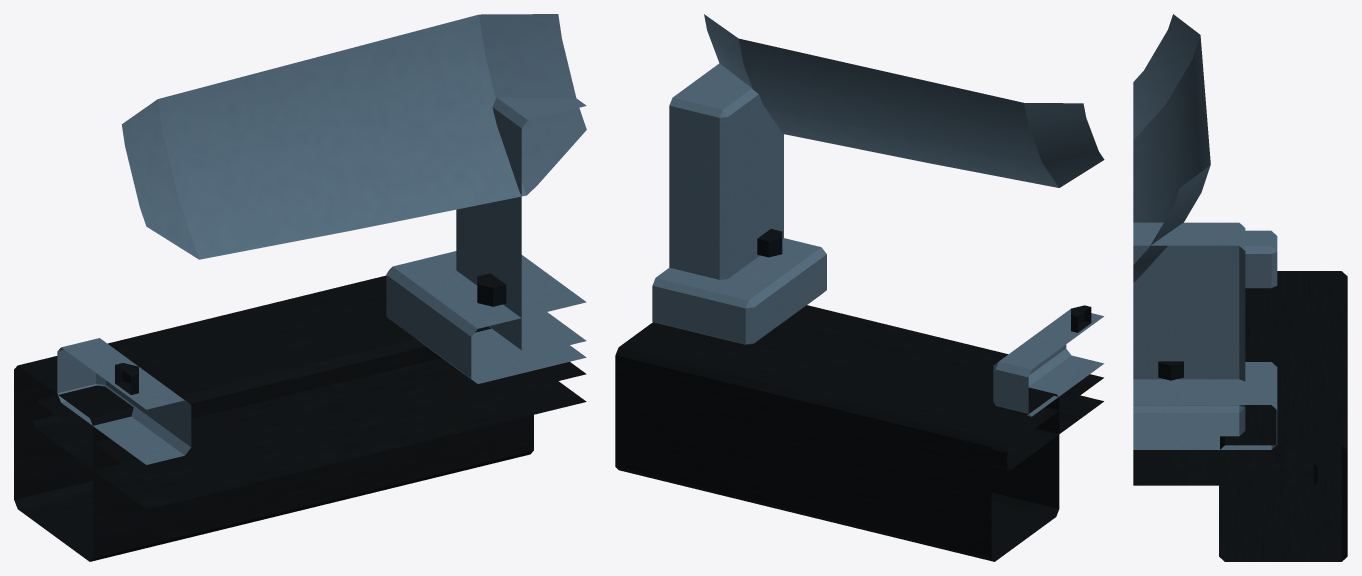
The model's file is cell_5.obj.
The picture shows the model from 3 angles, left to right: view 1: azimuth 30°, elevation 25°; view 2: azimuth 150°, elevation 25°; view 3: azimuth 270°, elevation 25°; orthographic projection. The views are drawn at different scales.
Parts seen in each view (by area): view 1: cell_5; view 2: cell_5; view 3: cell_5.
Part boxes in pixels (x1,y1,x2,y2): cell_5: (14,14,586,561); cell_5: (615,14,1104,561); cell_5: (1133,14,1347,561).
Size of the model in its own units: 1 by 1 by 0.52.
